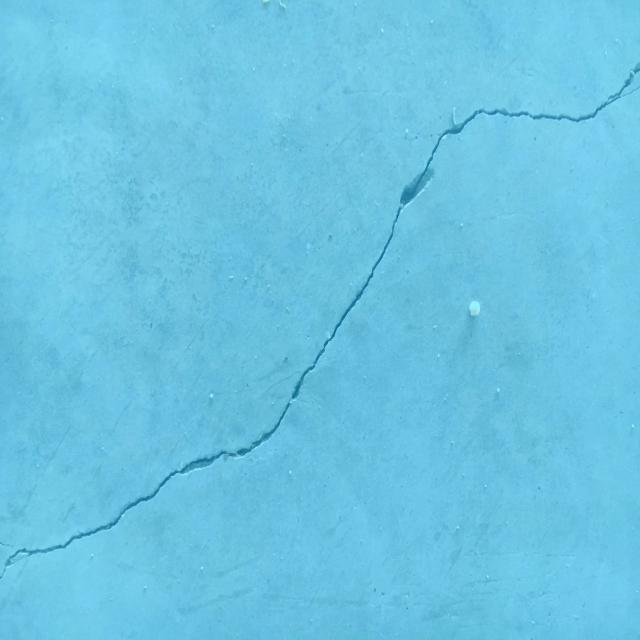crack: (0, 60, 640, 580), (0, 540, 14, 548)
